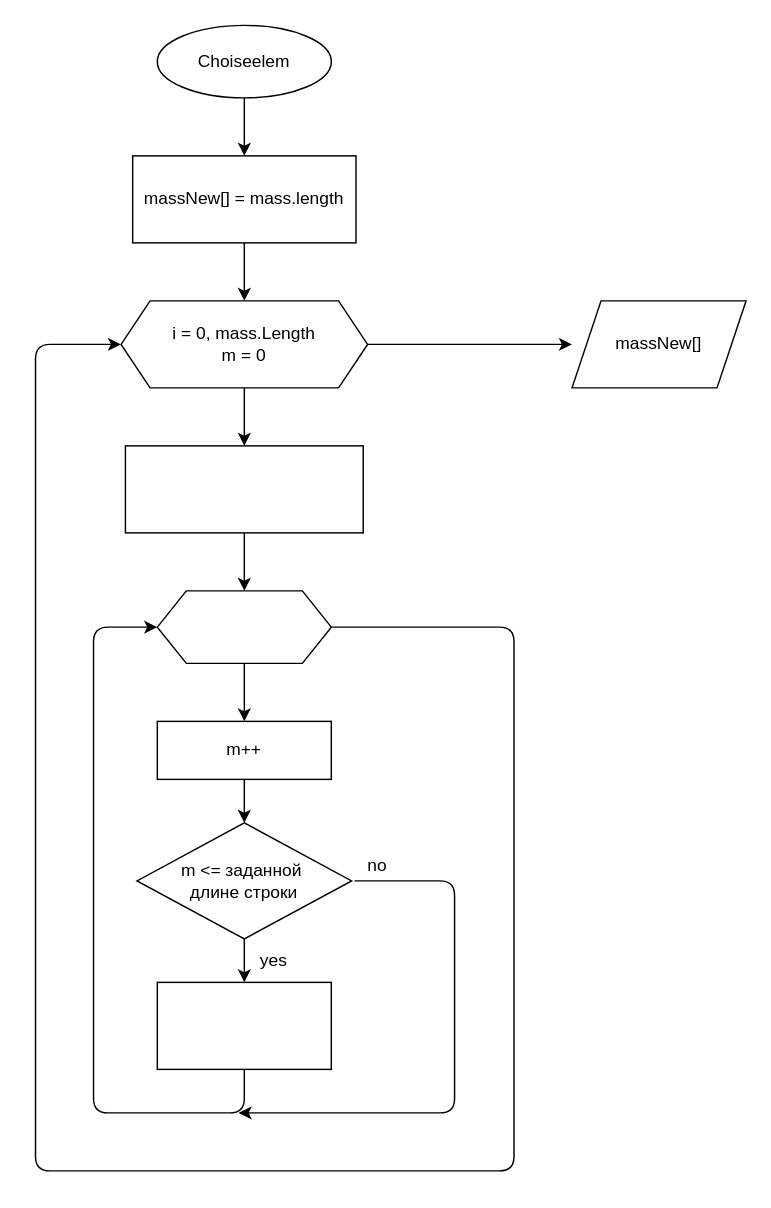
The diagram is 771 pixels wide and 1208 high, and some of its shapes have lost their labels. Here are the shapes that lost their labels. From the top down, the centre of each, then its label:
pixel 243 488: string a = mass[i] char b = a. ToCharArray int m = 0
pixel 243 626: char x in b
pixel 243 1025: massNew[i] = mass[i]
